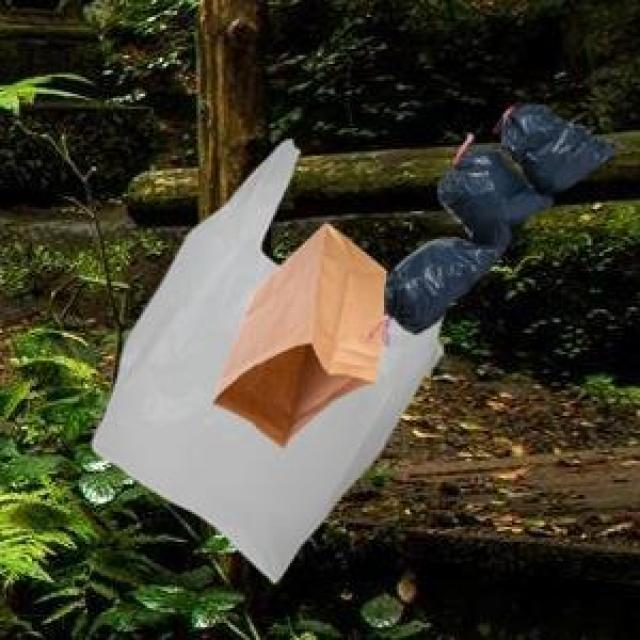miscellaneous trash: (382, 102, 614, 331)
paper: (209, 220, 382, 444)
